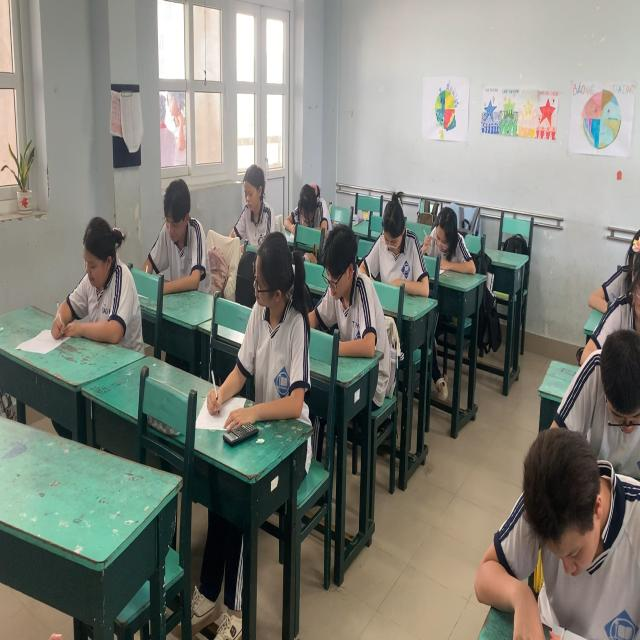cheating: (240, 234, 304, 408)
not_cheating: (508, 431, 636, 627), (60, 208, 134, 350), (307, 216, 373, 368), (574, 322, 640, 451), (148, 176, 203, 295), (377, 195, 422, 300), (230, 159, 274, 250), (291, 168, 332, 241), (431, 200, 467, 276)
